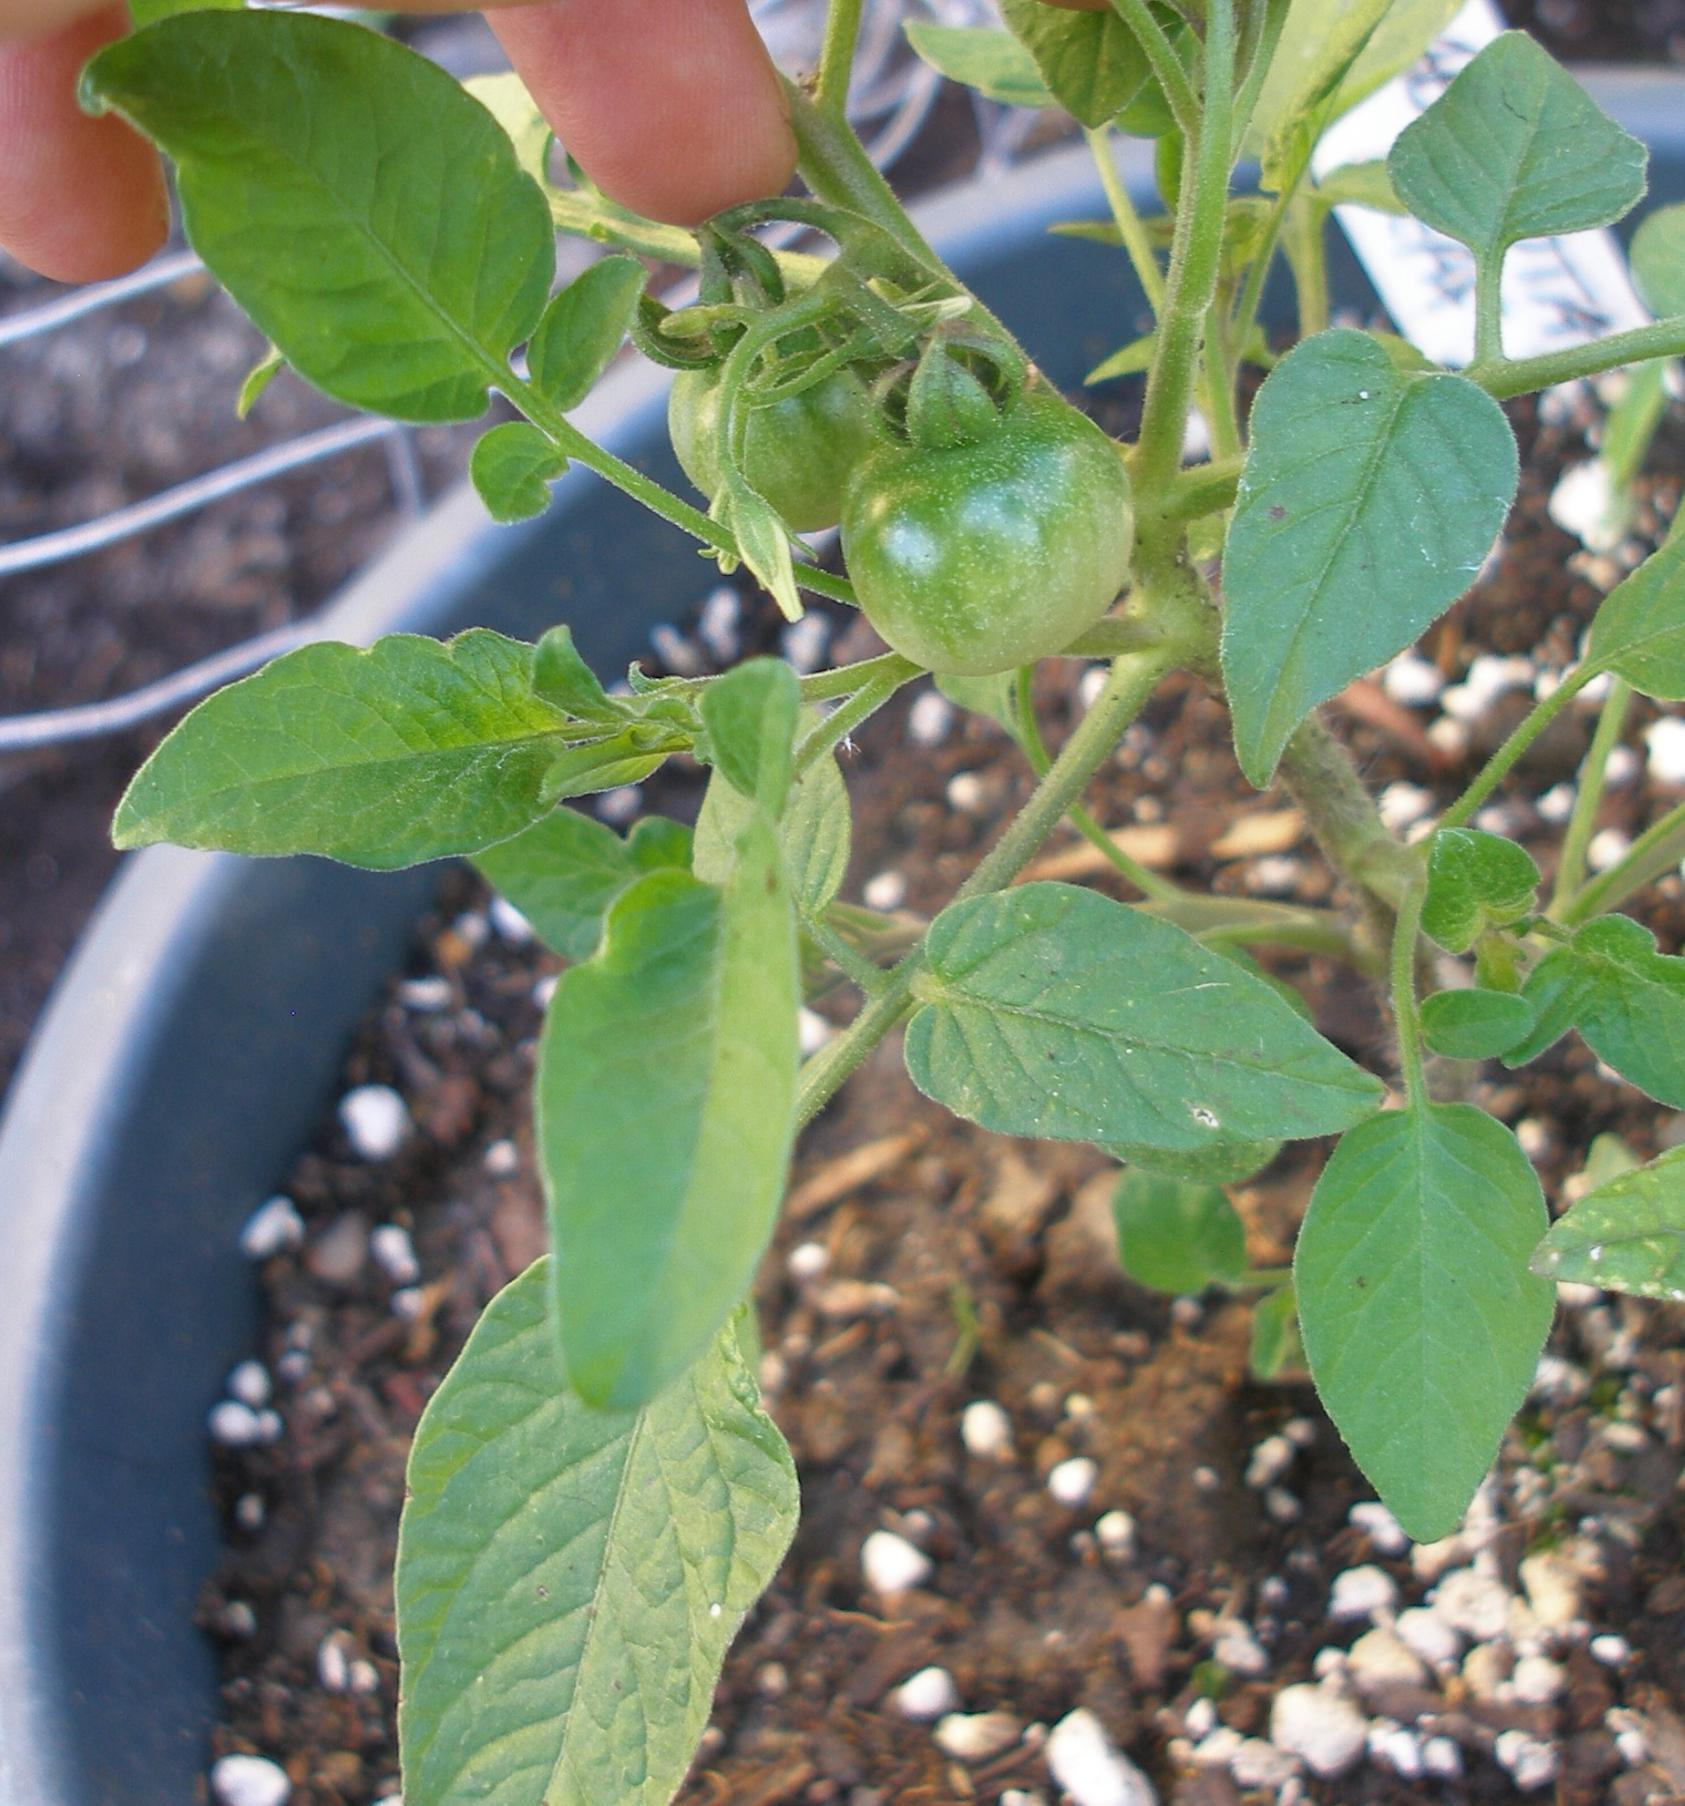Tomato leaf: (309, 1212, 920, 1806), (63, 0, 610, 513), (850, 851, 1394, 1233), (32, 535, 516, 947), (1254, 1069, 1595, 1591), (1147, 325, 1571, 740), (524, 859, 797, 1459), (1459, 874, 1685, 1142)
